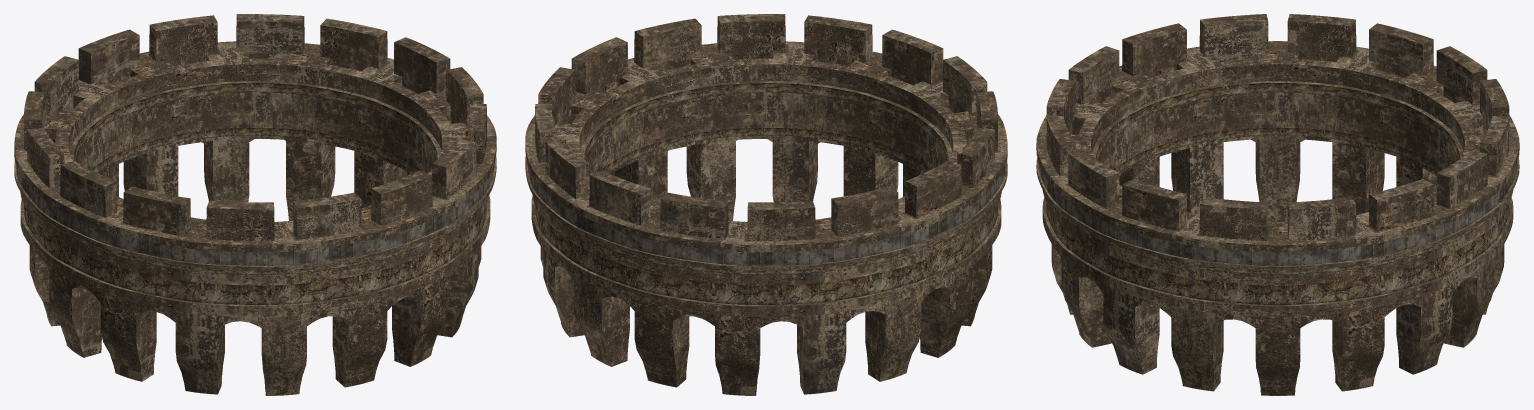
File: materials_5_wall_cylinder_0.fbx
3 renders of one model, left to right at view 1: azimuth 30°, elevation 25°; view 2: azimuth 150°, elevation 25°; view 3: azimuth 270°, elevation 25°, orthographic.
Visible parts, largest first — view 1: materials_5_wall_cylinder_0; view 2: materials_5_wall_cylinder_0; view 3: materials_5_wall_cylinder_0.
Part boxes in pixels (x1=…): materials_5_wall_cylinder_0: x1=14, y1=14, x2=496, y2=395; materials_5_wall_cylinder_0: x1=525, y1=14, x2=1007, y2=395; materials_5_wall_cylinder_0: x1=1036, y1=14, x2=1519, y2=395.
Bounding box in the file's own units: 768 × 344 × 768.
